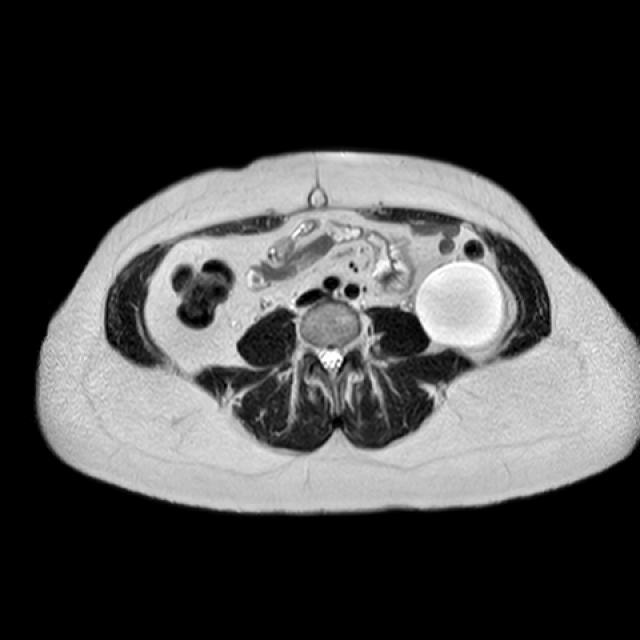sol: (415, 260, 509, 351)
